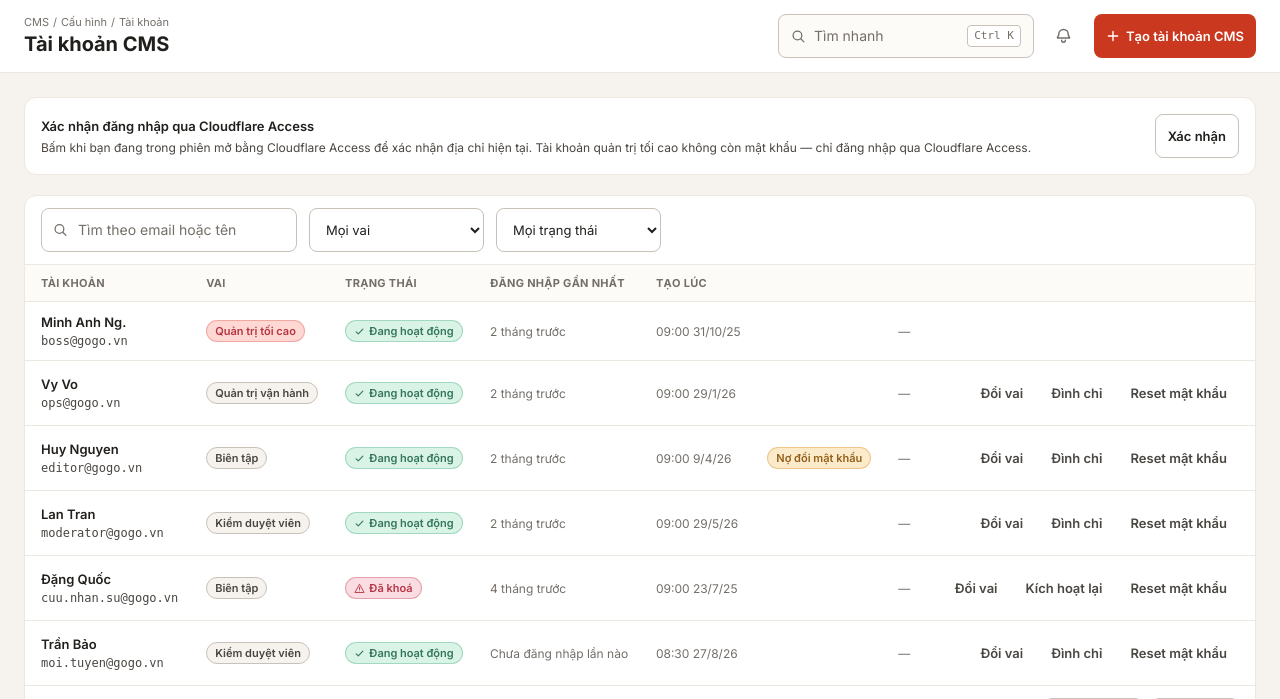
Test: AdminListScreen (CMS-021) › narrows to suspended accounts, which the guard actually enforces
The image size is (1280, 699).
Expected: the table is shown, [25, 265, 1255, 685]
Select "Đã khoá" in the dropdown named "Trạng thái": {"x": 578, "y": 230} [496, 208, 661, 252]
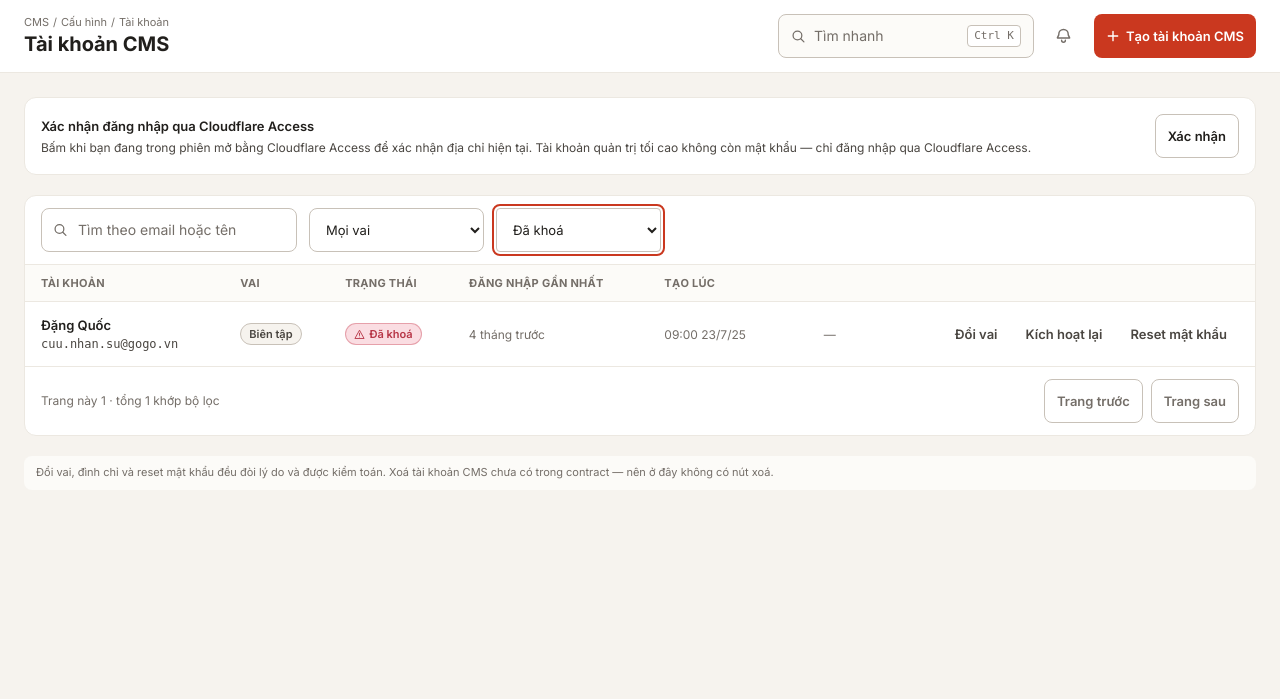
Expected: the text "Đã khoá" is shown, [345, 323, 422, 345]
Now the text "Trang này 1 · tổng 1 khớp bộ lọc" is shown, box [41, 393, 220, 409]
